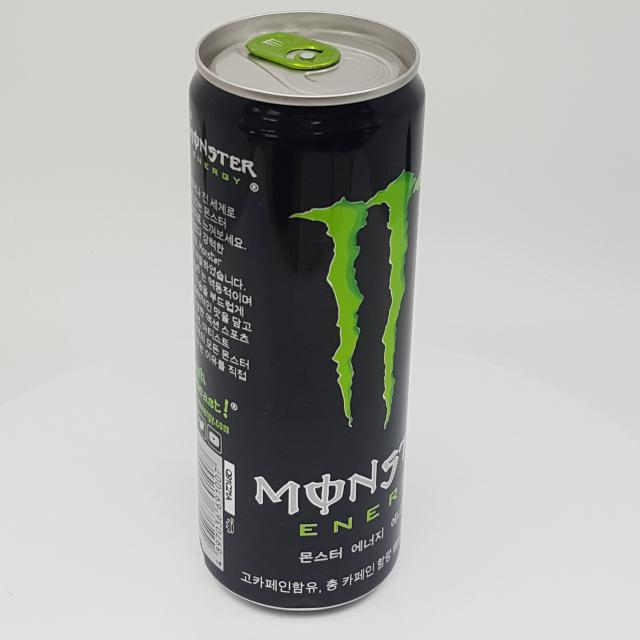--------355ML: (189, 12, 425, 612)
